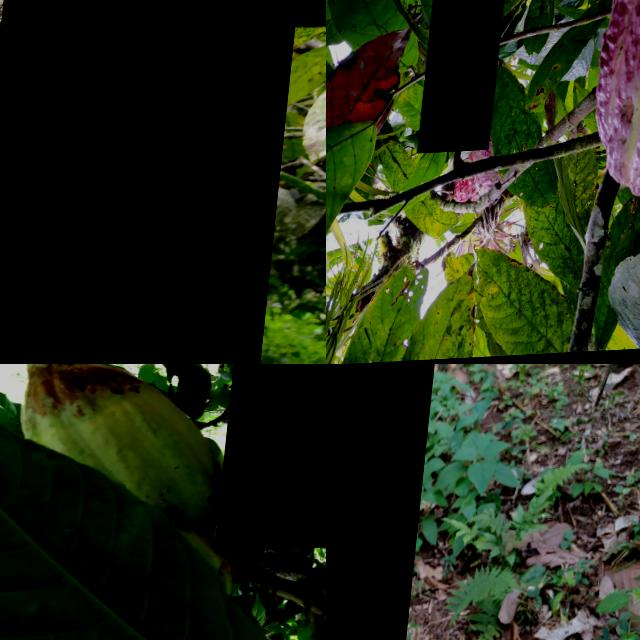Fitoftora: (0, 0, 303, 364), (426, 0, 520, 155), (24, 364, 207, 441)
Monilia: (326, 364, 443, 640)
Sana: (223, 364, 326, 556)
